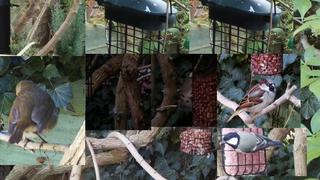great tit: (219, 131, 283, 154)
mouse: (178, 78, 193, 108)
robin: (7, 80, 61, 151)
sparrow: (226, 78, 277, 124)
